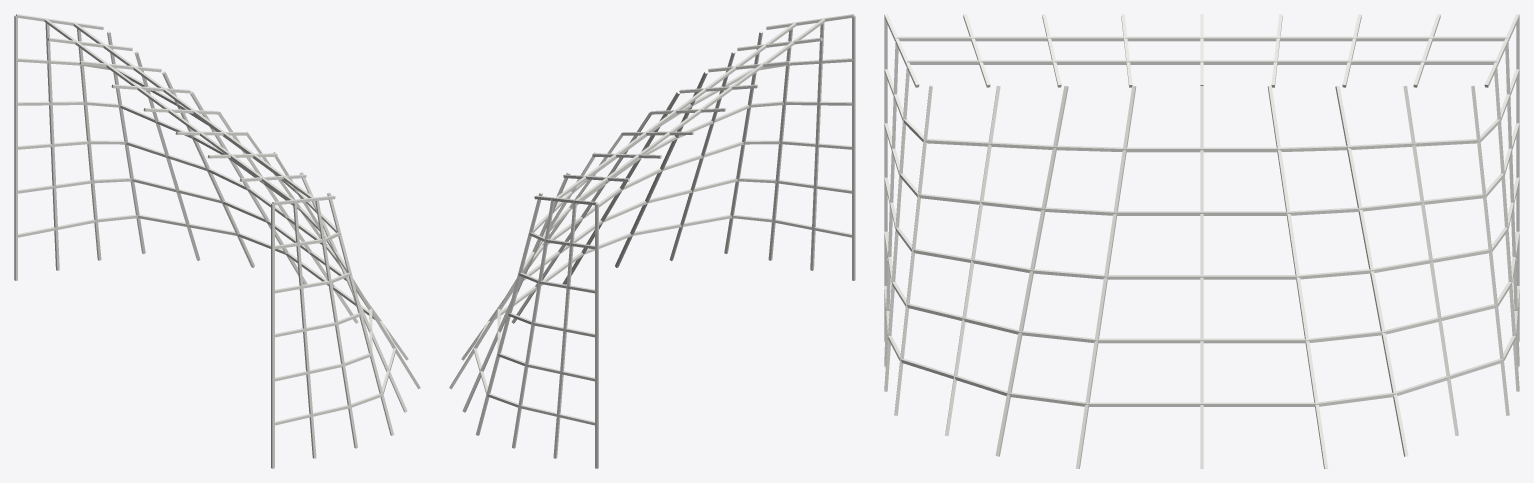
File: net.glb
3 views of the same model, side by side, from view 1: azimuth 30°, elevation 25°; view 2: azimuth 150°, elevation 25°; view 3: azimuth 270°, elevation 25° (orthographic). The views are drawn at different scales.
Parts seen in each view (by area): view 1: ice_net_body; view 2: ice_net_body; view 3: ice_net_body.
Part boxes in pixels (<box>): ice_net_body: <box>14,14,420,468</box>; ice_net_body: <box>449,14,855,468</box>; ice_net_body: <box>884,14,1519,468</box>.
Size of the model in its own units: 1.06 by 1.26 by 2.21.
1 material, 1 textured.
